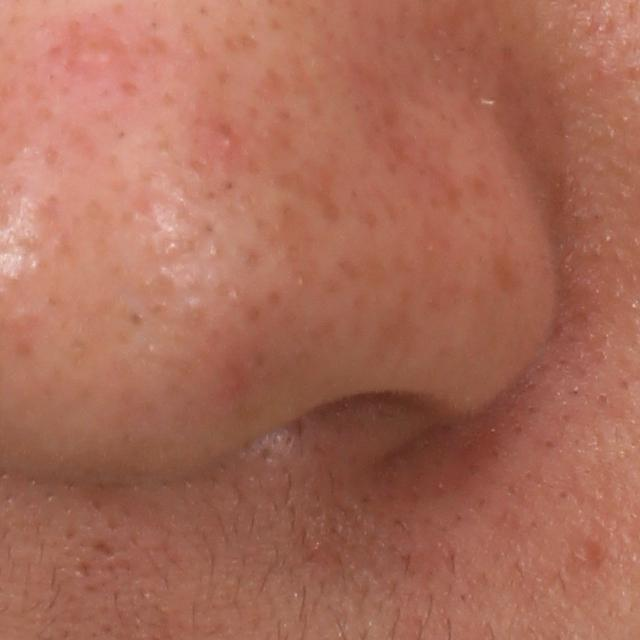atrophic_scar: (92, 538, 120, 561)
